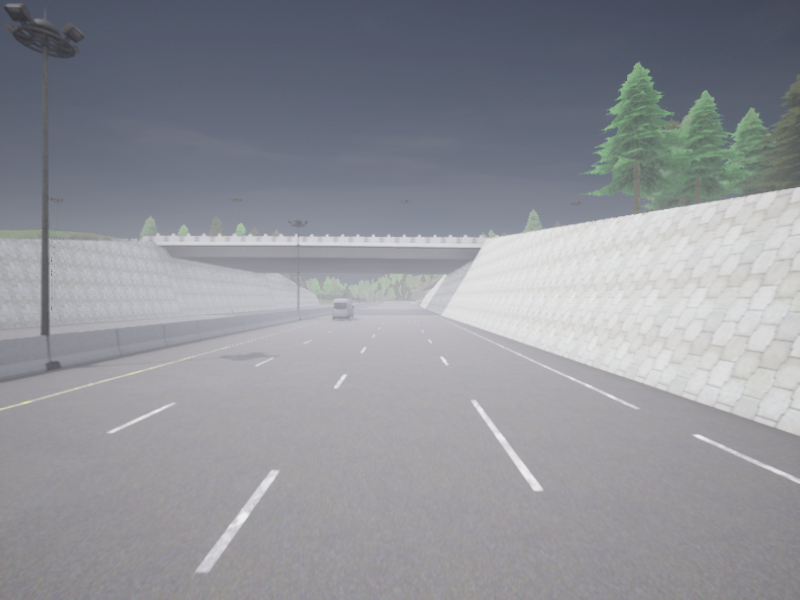vehicle: (332, 299, 354, 319)
